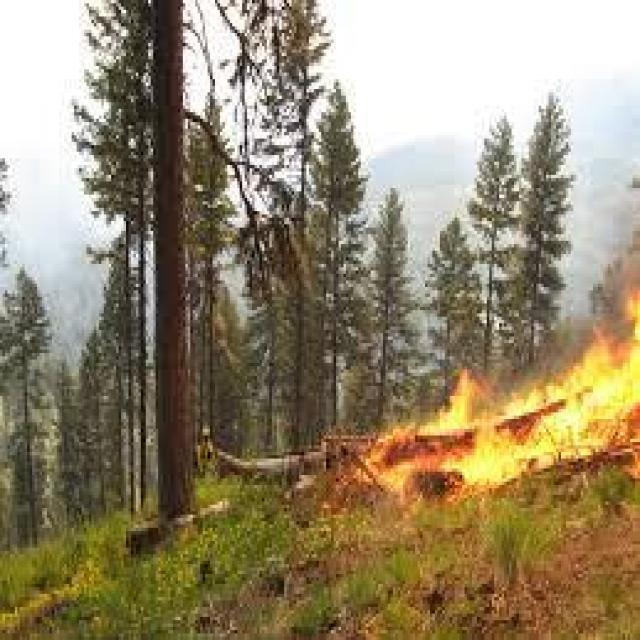Fire: (334, 294, 635, 530)
